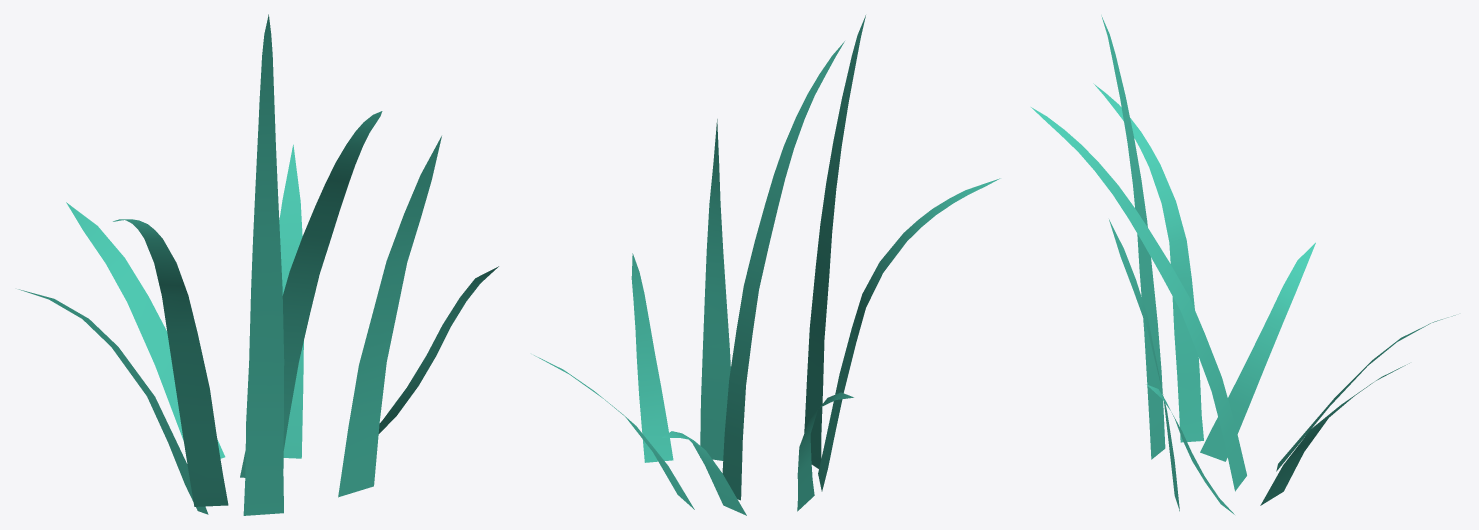
Rendered from coral_grass_D_ultralight.fbx.
3 renders of one model, left to right at view 1: azimuth 30°, elevation 25°; view 2: azimuth 150°, elevation 25°; view 3: azimuth 270°, elevation 25°, orthographic. The views are drawn at different scales.
Parts seen in each view (by area): view 1: coral_grass_D_leaf_B, coral_grass_D_leaf_C, coral_grass_D_leaf_D, coral_grass_D_leaf_A, coral_grass_D_leaf_G, coral_grass_D_leaf_H, coral_grass_D_leaf_F, coral_grass_D_leaf_E; view 2: coral_grass_D_leaf_A, coral_grass_D_leaf_D, coral_grass_D_leaf_B, coral_grass_D_leaf_E, coral_grass_D_leaf_C, coral_grass_D_leaf_F, coral_grass_D_leaf_G, coral_grass_D_leaf_H; view 3: coral_grass_D_leaf_C, coral_grass_D_leaf_A, coral_grass_D_leaf_B, coral_grass_D_leaf_F, coral_grass_D_leaf_H, coral_grass_D_leaf_D, coral_grass_D_leaf_G, coral_grass_D_leaf_E.
Part boxes in pixels (<box>): coral_grass_D_leaf_B: <box>243,14,284,515</box>; coral_grass_D_leaf_C: <box>113,219,228,506</box>; coral_grass_D_leaf_D: <box>338,136,441,497</box>; coral_grass_D_leaf_A: <box>240,111,382,477</box>; coral_grass_D_leaf_G: <box>66,202,225,458</box>; coral_grass_D_leaf_H: <box>279,144,303,458</box>; coral_grass_D_leaf_F: <box>18,289,208,514</box>; coral_grass_D_leaf_E: <box>378,266,498,433</box>; coral_grass_D_leaf_A: <box>722,41,844,500</box>; coral_grass_D_leaf_D: <box>700,119,730,460</box>; coral_grass_D_leaf_B: <box>804,15,865,468</box>; coral_grass_D_leaf_E: <box>631,253,673,462</box>; coral_grass_D_leaf_C: <box>818,178,1000,491</box>; coral_grass_D_leaf_F: <box>797,392,853,511</box>; coral_grass_D_leaf_G: <box>662,431,746,515</box>; coral_grass_D_leaf_H: <box>534,355,694,509</box>; coral_grass_D_leaf_C: <box>1093,83,1203,442</box>; coral_grass_D_leaf_A: <box>1031,107,1246,491</box>; coral_grass_D_leaf_B: <box>1101,15,1165,459</box>; coral_grass_D_leaf_F: <box>1200,242,1315,461</box>; coral_grass_D_leaf_H: <box>1260,363,1409,505</box>; coral_grass_D_leaf_D: <box>1109,219,1179,511</box>; coral_grass_D_leaf_G: <box>1276,315,1455,471</box>; coral_grass_D_leaf_E: <box>1146,384,1234,514</box>.
Bounding box in the file's own units: 63.58 × 80.32 × 71.09.
